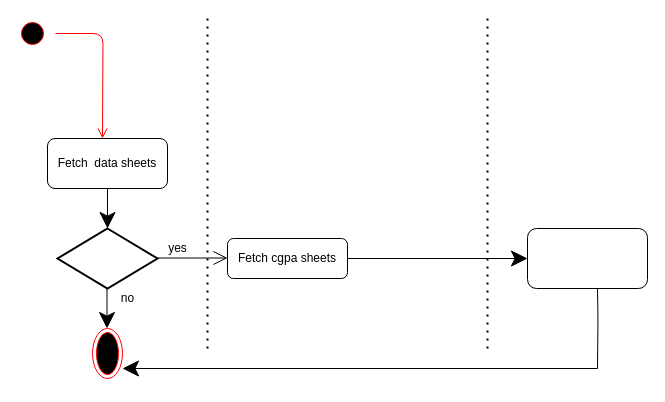
Some shapes in this 665 by 402 pixel diagram are drawn without their labels. The centre of each missing label's shape, as x and y in pixels:
available: the point at 107,258
calculate min,max,avg,SD,Kurt: the point at 587,258
